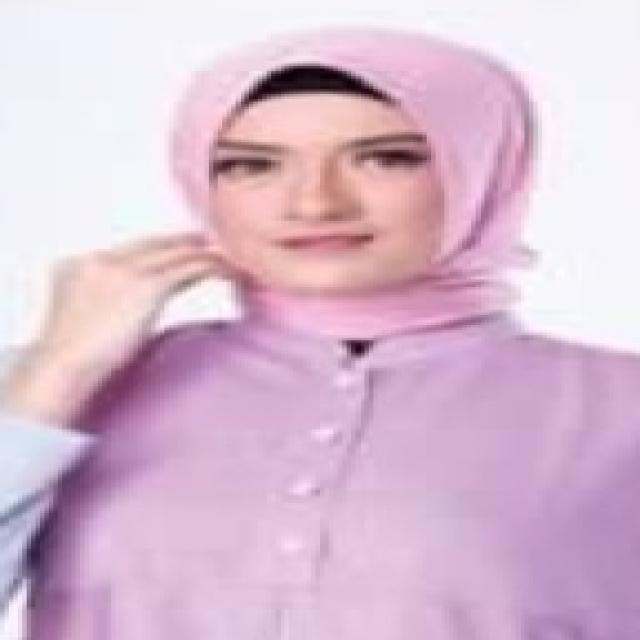head: (170, 19, 533, 304)
